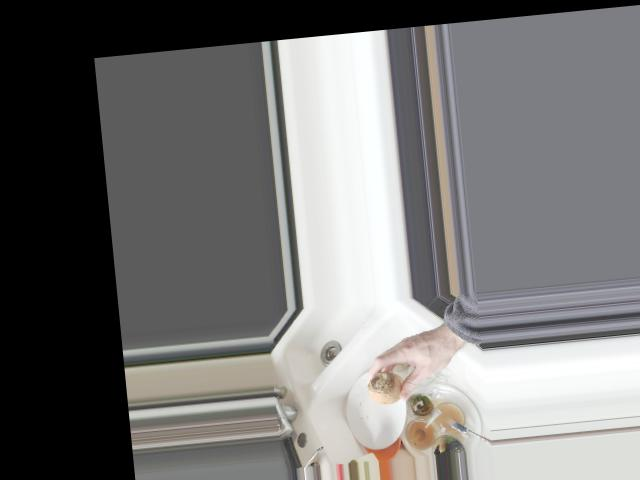sweet_potato: (364, 367, 412, 407)
